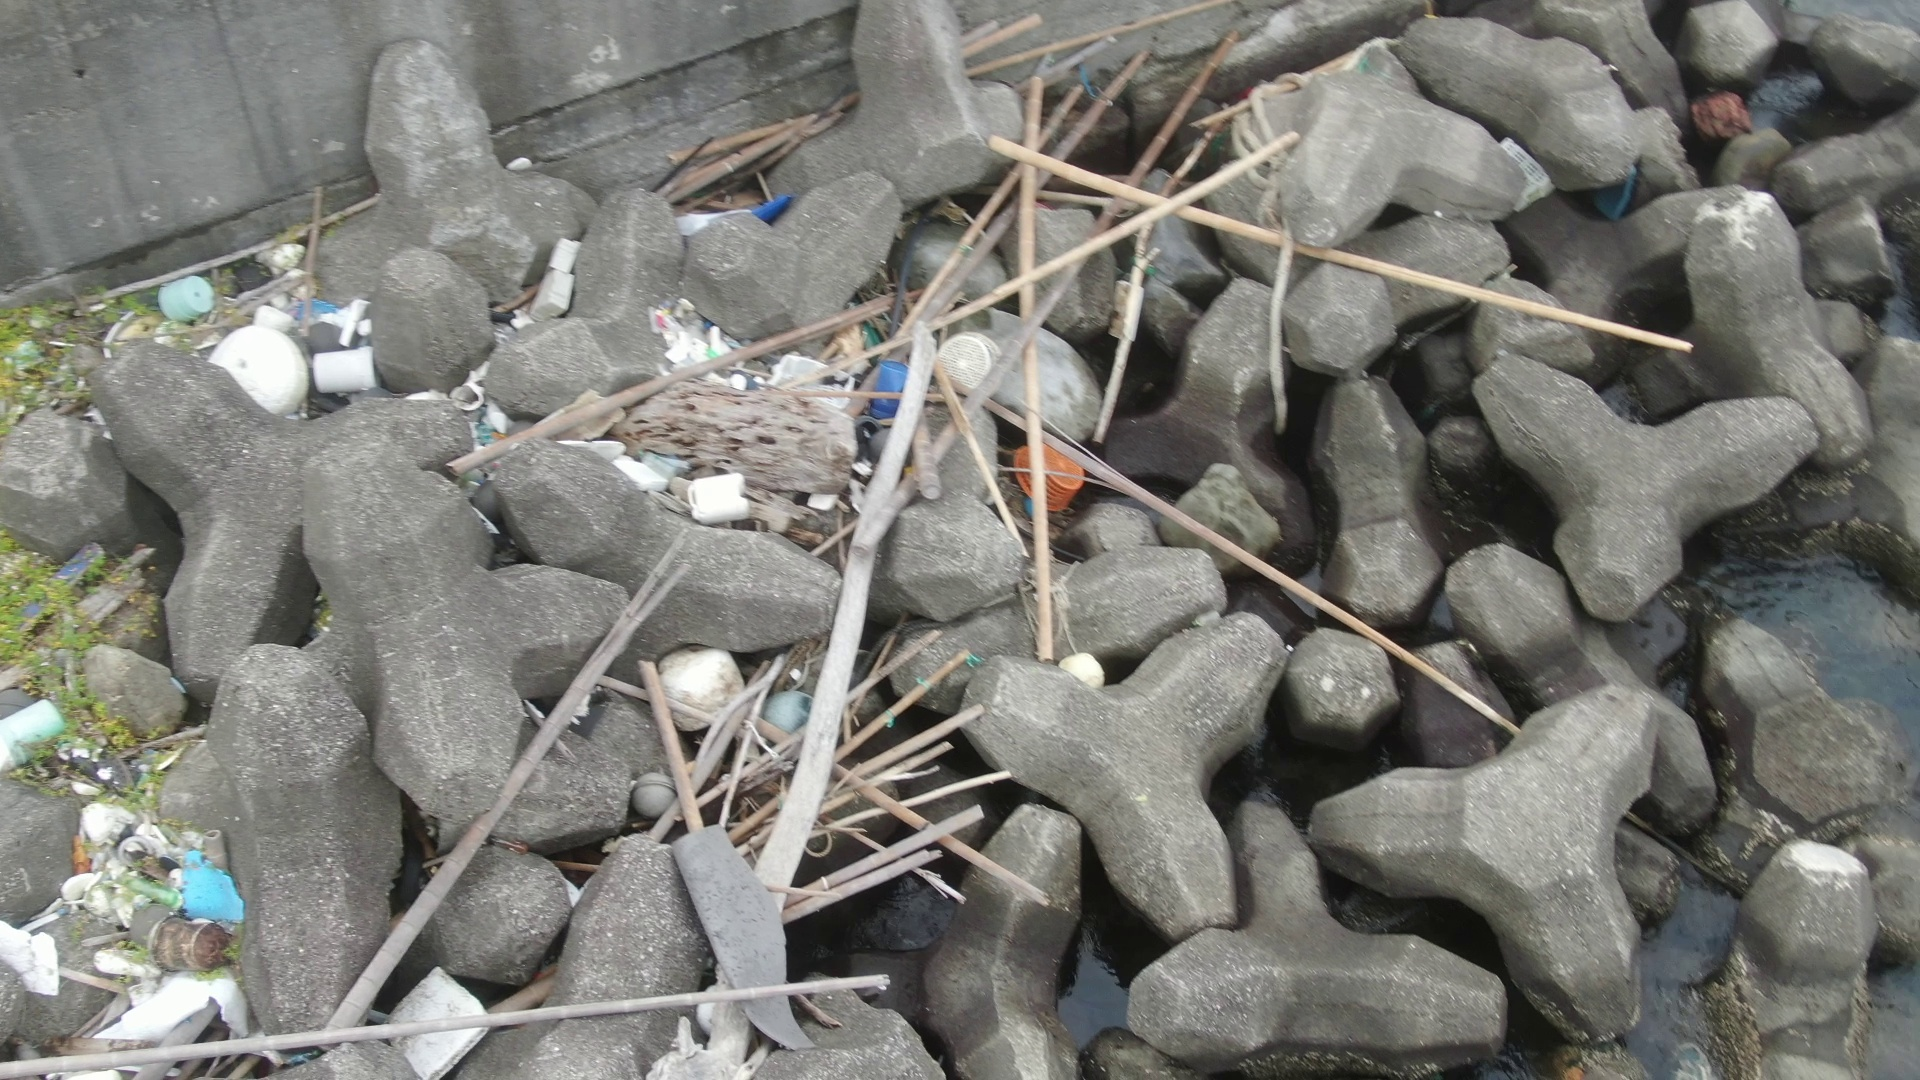garbage: (1, 793, 245, 1064), (657, 802, 812, 1065), (146, 262, 402, 417), (634, 629, 828, 767), (640, 293, 848, 419), (566, 429, 770, 527), (436, 340, 520, 535), (375, 952, 506, 1072), (857, 344, 1015, 422), (989, 433, 1105, 527), (32, 527, 113, 629), (530, 218, 589, 334), (1, 684, 82, 769), (616, 752, 687, 820), (737, 181, 803, 236), (1059, 644, 1112, 698)
